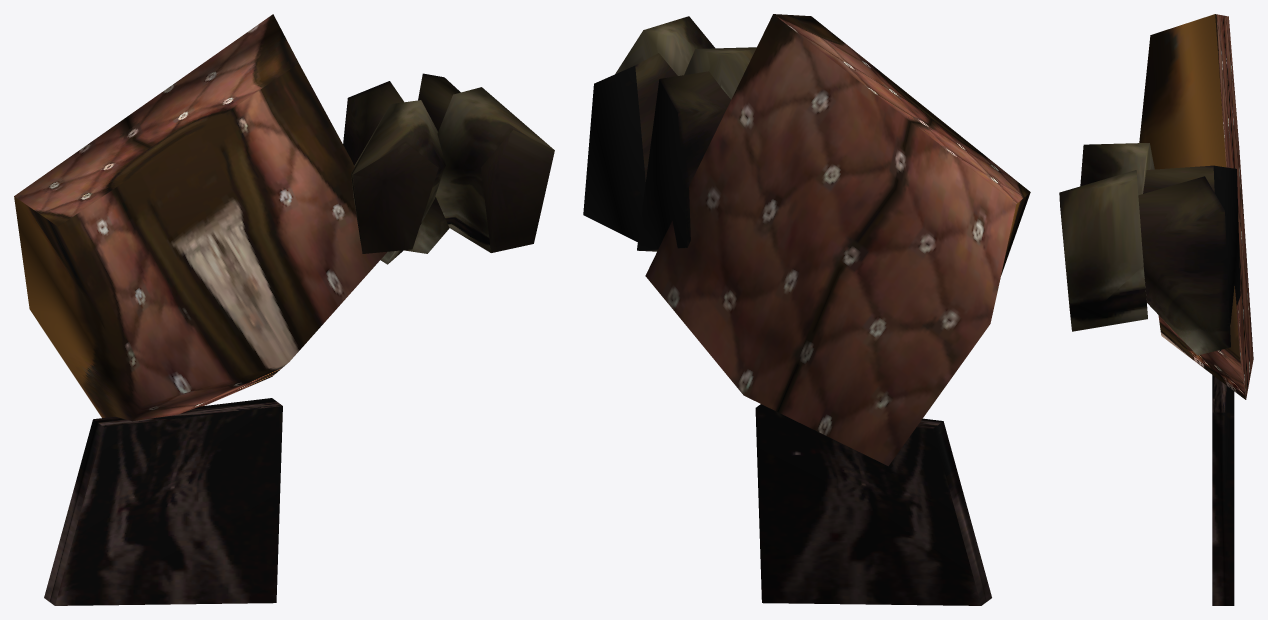
3 renders of one model, left to right at view 1: azimuth 30°, elevation 25°; view 2: azimuth 150°, elevation 25°; view 3: azimuth 270°, elevation 25°, orthographic.
Parts seen in each view (by area): view 1: zm_Buerger; view 2: zm_Buerger; view 3: zm_Buerger.
Boxes of the visible parts, bbox=[...] form: zm_Buerger: bbox=[14, 14, 554, 605]; zm_Buerger: bbox=[583, 14, 1030, 605]; zm_Buerger: bbox=[1059, 14, 1253, 605].
Bounding box in the file's own units: 86.96 × 107 × 31.75.
